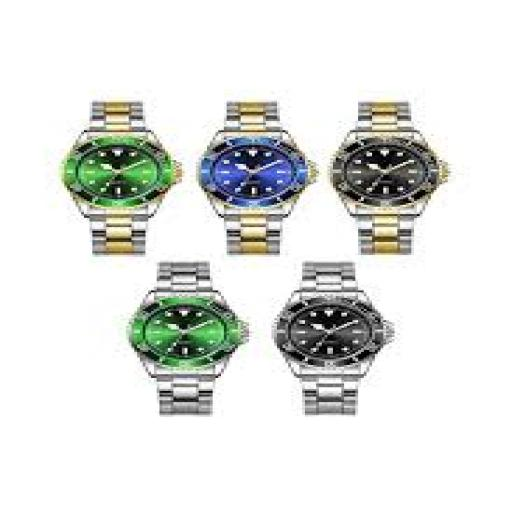KolSaati: (314, 81, 458, 258), (53, 78, 183, 261), (270, 260, 404, 423), (194, 80, 304, 260), (128, 262, 252, 420)
